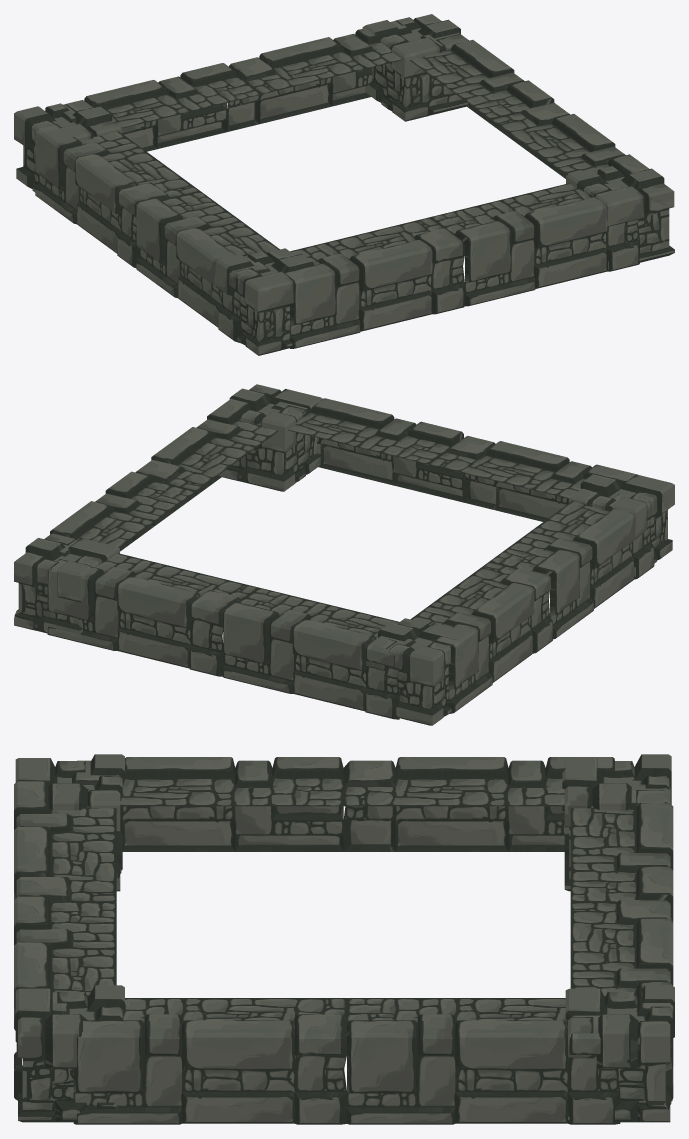
File: polysurface580_txt_truc_en_pierrebas_0_lev1_lev2.glb
3 renders of one model, top to bottom at view 1: azimuth 30°, elevation 25°; view 2: azimuth 150°, elevation 25°; view 3: azimuth 270°, elevation 25°, orthographic. The views are drawn at different scales.
Visible parts, largest first — view 1: polysurface580_txt_truc_en_pierrebas_0_lev1_lev2; view 2: polysurface580_txt_truc_en_pierrebas_0_lev1_lev2; view 3: polysurface580_txt_truc_en_pierrebas_0_lev1_lev2.
Part boxes in pixels (x1,y1,x2,y2): polysurface580_txt_truc_en_pierrebas_0_lev1_lev2: (14,14,674,355); polysurface580_txt_truc_en_pierrebas_0_lev1_lev2: (14,384,674,725); polysurface580_txt_truc_en_pierrebas_0_lev1_lev2: (14,754,674,1124).
Size of the model in its own units: 7.4 by 1.19 by 7.42.
Materials: 1 (1 with a texture image).
